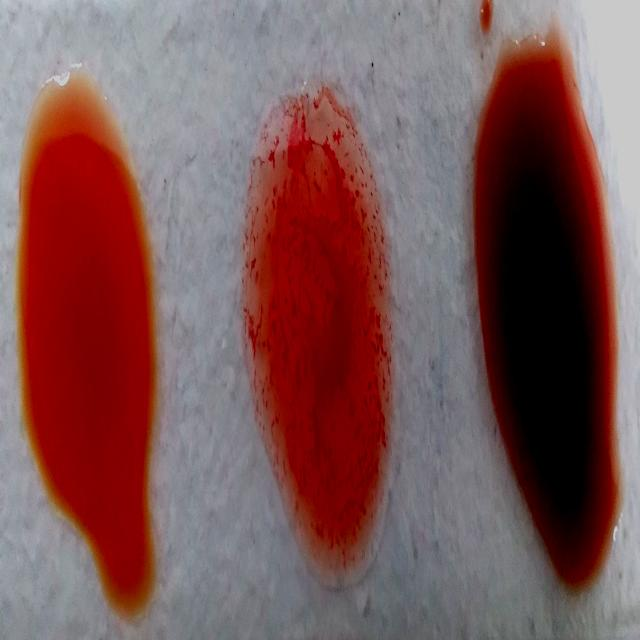D: (245, 102, 392, 580)
